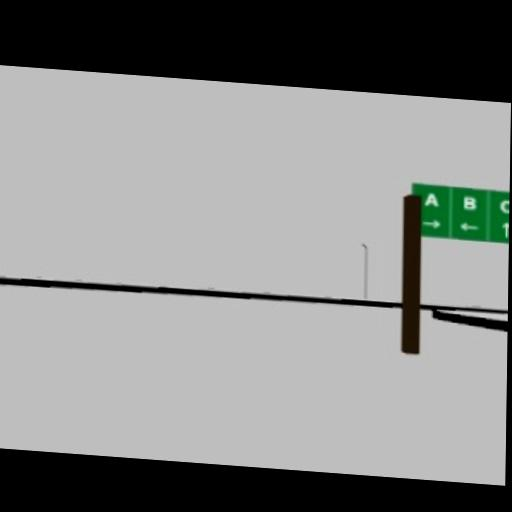A: (423, 191, 438, 206)
B: (461, 194, 476, 210)
C: (499, 197, 510, 212)
Left: (458, 220, 478, 230)
Right: (421, 217, 441, 227)
Straight: (501, 220, 509, 235)
